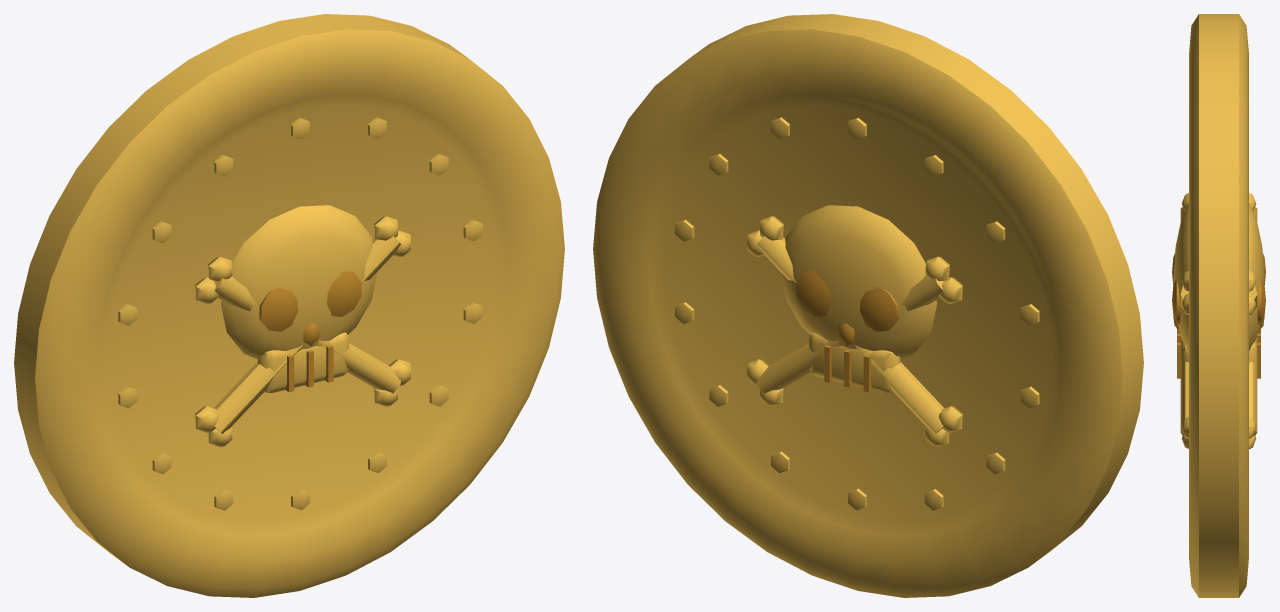
The model's file is doubloon.glb.
3 renders of one model, left to right at view 1: azimuth 30°, elevation 25°; view 2: azimuth 150°, elevation 25°; view 3: azimuth 270°, elevation 25°, orthographic. The views are drawn at different scales.
Parts seen in each view (by area): view 1: doubloon; view 2: doubloon; view 3: doubloon.
Part boxes in pixels (<box>): doubloon: <box>14,14,564,597</box>; doubloon: <box>593,14,1143,597</box>; doubloon: <box>1172,14,1265,597</box>.
Bounding box in the file's own units: 0.35 × 0.35 × 0.0561.
